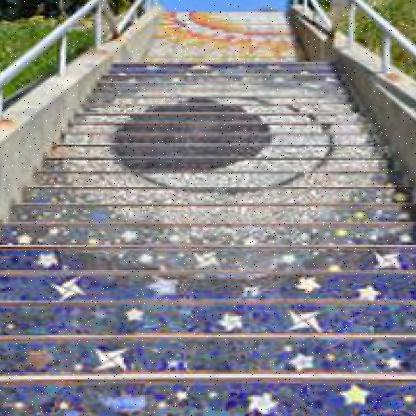stair_up: (0, 190, 416, 398)
